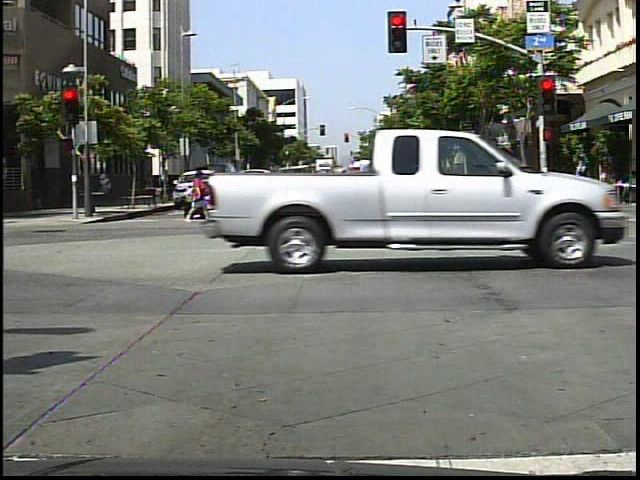person: (366, 163, 401, 231), (416, 161, 447, 225), (179, 166, 211, 225), (571, 157, 594, 206)
